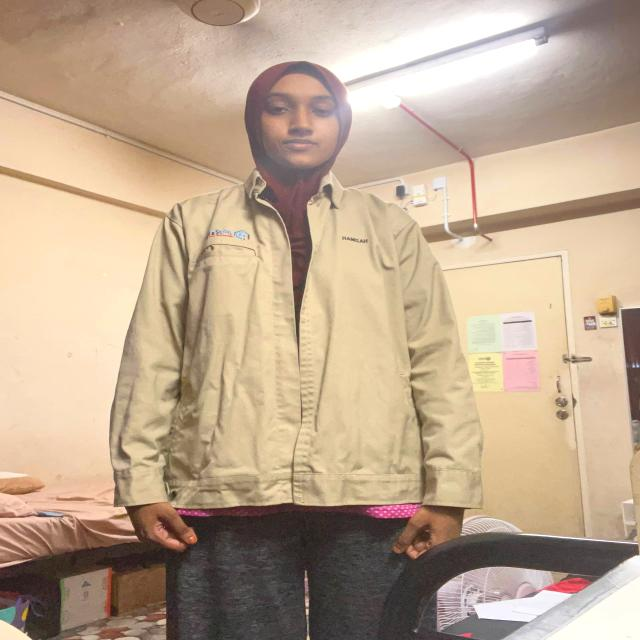person_with_labcoat: (109, 62, 483, 640)
